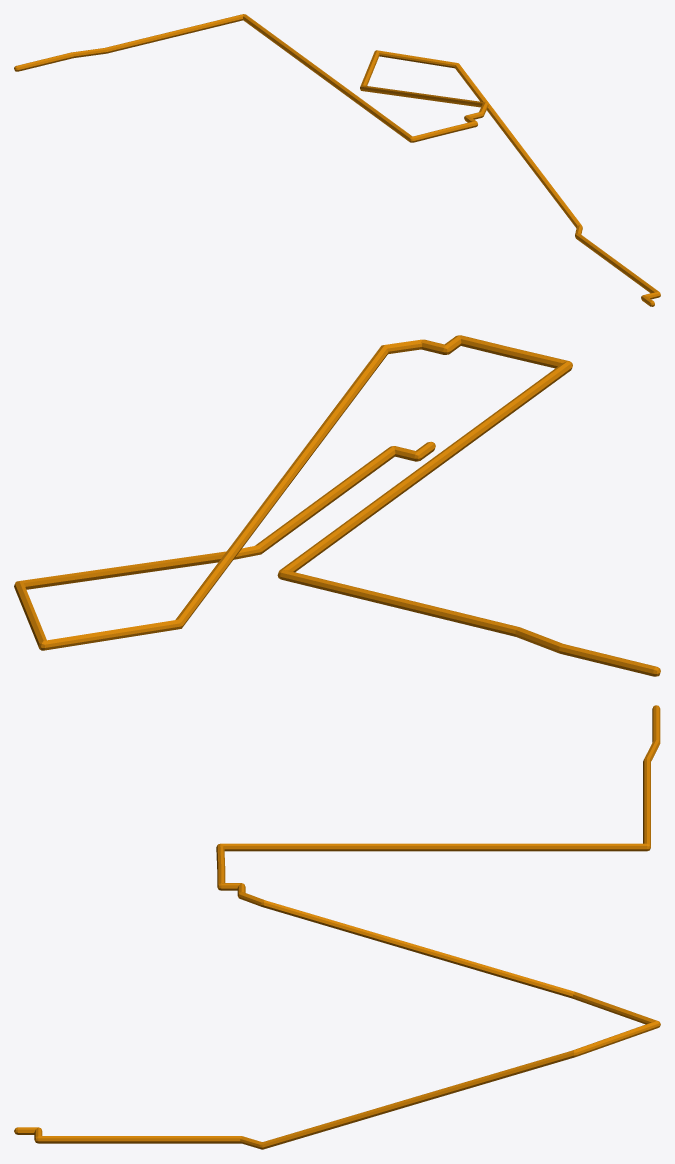
3 views of the same model, one above another, from view 1: azimuth 30°, elevation 25°; view 2: azimuth 150°, elevation 25°; view 3: azimuth 270°, elevation 25° (orthographic). The views are drawn at different scales.
Bounding box in the file's own units: 1492 × 520 × 1592.
